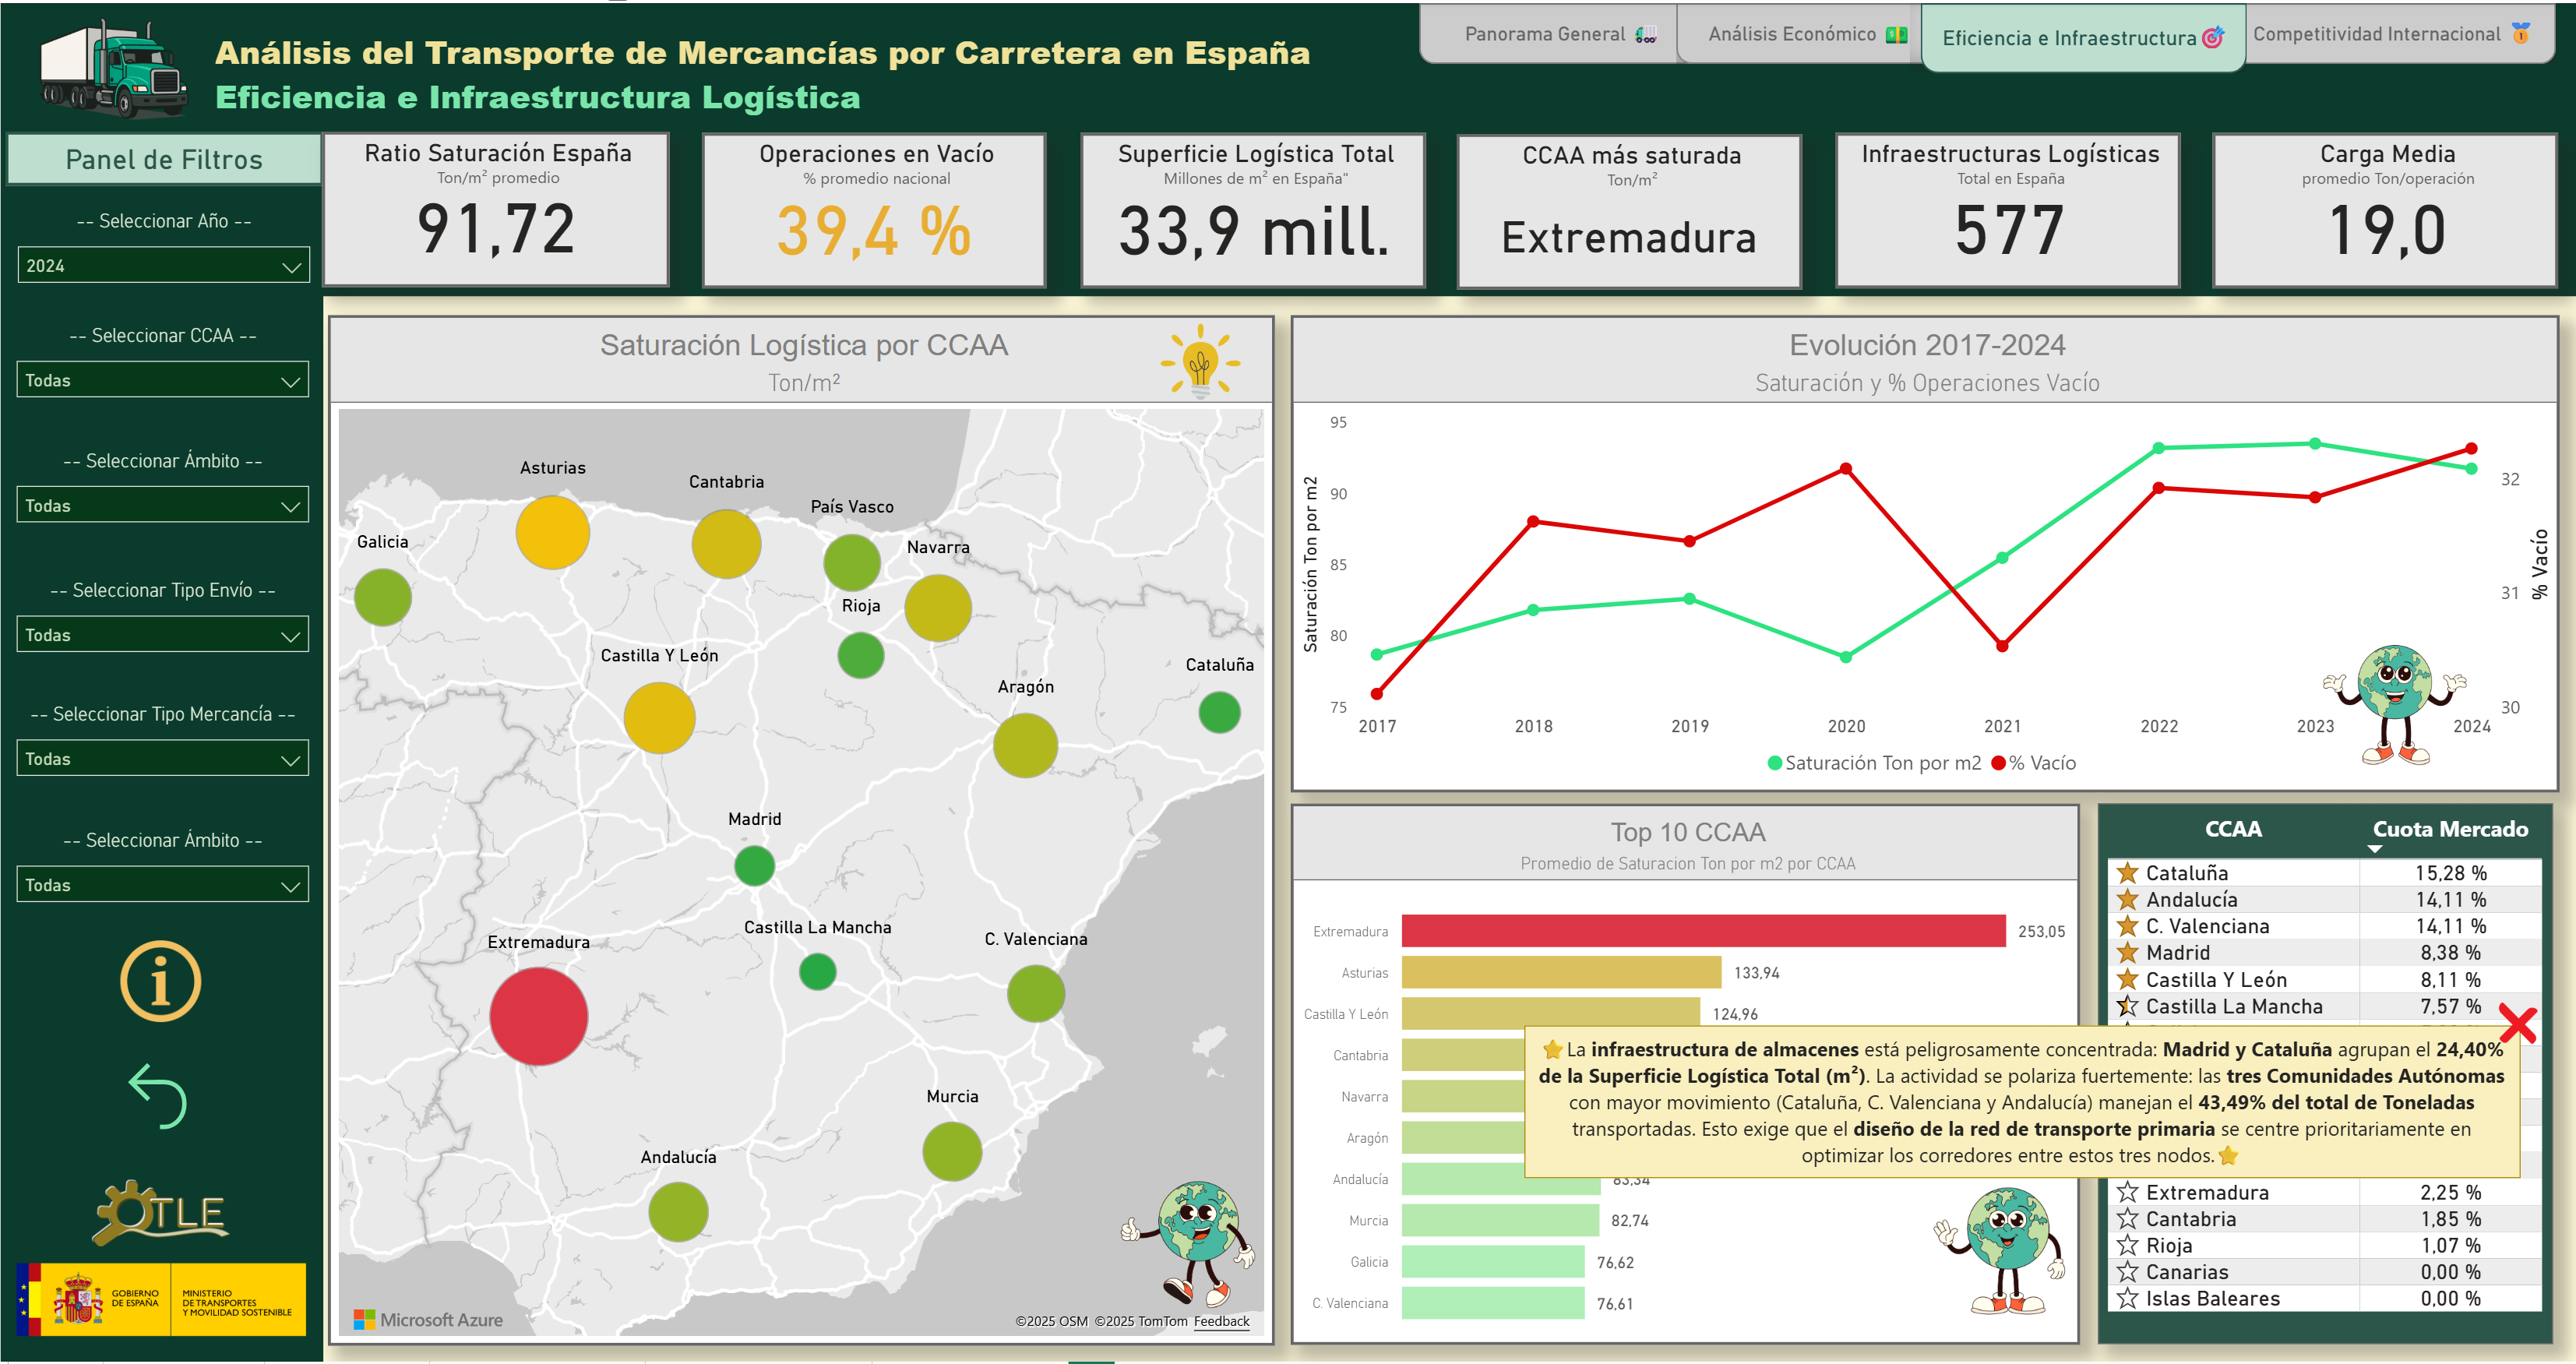

Layout of this report page (visuals, bound fields, positions):
{"tool":"powerbi","page":{"name":"Eficiencia e Infraestructura","canvas":[1747,920],"ordinal":3},"visuals":[{"type":"group","id":"g1","title":"Panel diseño","box":[0,0,1747,919.7],"z":0},{"type":"shape","box":[0,0,1747,198.6],"z":0,"group":"g1"},{"type":"shape","box":[0,81.2,218.5,838.5],"z":1000,"group":"g1"},{"type":"cardVisual","title":"Infraestructuras Logísticas","fields":{"Data":["Medidas Eficiencia e Infraestructura.Tipos Infraestructura"]},"box":[1242.3,87.8,234.2,105],"z":1000},{"type":"textbox","box":[140.3,12.6,782.4,71],"z":2000,"group":"g1"},{"type":"image","title":"Info Pag 3","box":[75.5,626.8,65.6,71],"z":2000},{"type":"slicer","title":"-- Seleccionar Año --","fields":{"Values":["Dim Año.Año"]},"box":[1.8,140.1,218,63.9],"z":3000},{"type":"slicer","title":"-- Seleccionar CCAA --","fields":{"Values":["CCAA Dim.CCAA"]},"box":[0.9,218,218,63],"z":4000},{"type":"slicer","title":"-- Seleccionar Ámbito --","fields":{"Values":["Tipo Envio Dim.Ámbito"]},"box":[0.9,302,218,63.9],"z":5000},{"type":"slicer","title":"-- Seleccionar Tipo Envío --","fields":{"Values":["Tipo Envio Dim.Tipo Envío"]},"box":[1,390.4,218,63.9],"z":6000},{"type":"textbox","box":[3.2,87,215.2,36.4],"z":7000},{"type":"cardVisual","title":"Ratio Saturación España","fields":{"Data":["Avg(KPI Saturación Logística.Saturacion Ton por m2)"]},"box":[217.6,87,235,105],"z":8000},{"type":"cardVisual","title":"Operaciones en Vacío","fields":{"Data":["Medidas Eficiencia e Infraestructura.Promedio Op Vacio (%)"]},"box":[474.8,87.8,233.4,105],"z":9000},{"type":"cardVisual","title":"Superficie Logística Total","fields":{"Data":["Sum(KPI Saturación Logística.Superficie m2)"]},"box":[731.2,87.8,234.2,105],"z":10000},{"type":"cardVisual","title":"CCAA más saturada","fields":{"Data":["Min(Dim CCAA.CCAA)"]},"box":[985.9,88.6,234.2,105],"z":11000},{"type":"slicer","title":"-- Seleccionar Tipo Mercancía --","fields":{"Values":["Dim Infraestructuras.Tipo Infraestructura"]},"box":[0.9,473.6,218,63],"z":13000},{"type":"azureMap","title":"Saturación Logística por CCAA","fields":{"Category":["Dim CCAA.CCAA","C0516 Infraestructuras Logísticas.Provincia"],"Size":["Avg(KPI Saturación Logística.Saturacion Ton por m2)"]},"box":[221.6,211.2,641.2,697.8],"z":14000},{"type":"shape","box":[1512.6,0,218.2,41.2],"z":15000},{"type":"shape","box":[960.6,0,194.7,41.1],"z":16000},{"type":"shape","box":[1134.7,0,181.2,41.1],"z":17000},{"type":"image","box":[4,846.7,208.9,62.5],"z":18000},{"type":"image","box":[6.3,791.4,204.1,55.8],"z":19000},{"type":"actionButton","box":[77.3,711.3,65.6,57.6],"z":20000},{"type":"shape","box":[1293,0,227.9,47.5],"z":21000},{"type":"cardVisual","title":"Carga Media","fields":{"Data":["Medidas Eficiencia e Infraestructura.Carga media por op"]},"box":[1497.9,87.8,234.2,105],"z":22000},{"type":"lineChart","title":"Evolución 2017-2024","fields":{"Category":["Dim Año.Año"],"Y":["Avg(KPI Saturación Logística.Saturacion Ton por m2)"],"Y2":["Avg(C0285 Operaciones Vacío.% Vacío)"]},"box":[873.6,211.3,859.3,323.6],"z":23000},{"type":"clusteredBarChart","title":"Top 10 CCAA","fields":{"Category":["Dim CCAA.CCAA"],"Y":["Avg(KPI Saturación Logística.Saturacion Ton por m2)"]},"box":[873.2,542.2,534.7,366.8],"z":24000},{"type":"slicer","title":"-- Seleccionar Ámbito --","fields":{"Values":["Dim Infraestructuras.Funcion"]},"box":[1,559.4,218,63.9],"z":25000},{"type":"tableEx","fields":{"Values":["Dim CCAA.CCAA","KPI Cuota Mercado CCAA.Cuota Mercado"]},"box":[1420.4,542,307.8,366],"z":26000},{"type":"image","box":[1567.5,415.4,107.6,119.5],"z":29000},{"type":"image","box":[9.9,0,133.1,86.3],"z":31000},{"type":"image","box":[1303.3,796.8,100.5,99.7],"z":34000},{"type":"image","box":[752.5,791.3,102.1,99.7],"z":35000},{"type":"image","box":[777.9,211.3,70.1,62.9],"z":37000}]}

Visuals, with their boxes in screenshot pixels (x1, y1, x2, y2), scaled from the page's 1747x920 canvas onto the 2576x1364 screenshot:
"Panel diseño" group: select_region(0, 0, 2575, 1363)
shape: select_region(0, 0, 2575, 294)
shape: select_region(0, 121, 322, 1363)
"Infraestructuras Logísticas" cardVisual: select_region(1832, 130, 2177, 286)
textbox: select_region(207, 19, 1361, 124)
"Info Pag 3" image: select_region(111, 929, 208, 1034)
"-- Seleccionar Año --" slicer: select_region(2, 208, 324, 302)
"-- Seleccionar CCAA --" slicer: select_region(2, 323, 322, 417)
"-- Seleccionar Ámbito --" slicer: select_region(2, 448, 322, 542)
"-- Seleccionar Tipo Envío --" slicer: select_region(2, 579, 323, 674)
textbox: select_region(5, 129, 322, 183)
"Ratio Saturación España" cardVisual: select_region(321, 129, 668, 284)
"Operaciones en Vacío" cardVisual: select_region(700, 130, 1045, 286)
"Superficie Logística Total" cardVisual: select_region(1078, 130, 1423, 286)
"CCAA más saturada" cardVisual: select_region(1454, 132, 1799, 287)
"-- Seleccionar Tipo Mercancía --" slicer: select_region(2, 702, 322, 795)
"Saturación Logística por CCAA" azureMap: select_region(326, 313, 1272, 1348)
shape: select_region(2230, 0, 2552, 61)
shape: select_region(1416, 0, 1704, 61)
shape: select_region(1673, 0, 1940, 61)
image: select_region(6, 1255, 314, 1348)
image: select_region(9, 1173, 310, 1256)
actionButton: select_region(114, 1055, 211, 1140)
shape: select_region(1907, 0, 2243, 70)
"Carga Media" cardVisual: select_region(2208, 130, 2554, 286)
"Evolución 2017-2024" lineChart: select_region(1288, 313, 2555, 793)
"Top 10 CCAA" clusteredBarChart: select_region(1288, 804, 2076, 1348)
"-- Seleccionar Ámbito --" slicer: select_region(2, 830, 323, 924)
tableEx - Dim CCAA.CCAA x KPI Cuota Mercado CCAA.Cuota Mercado: select_region(2095, 804, 2548, 1346)
image: select_region(2311, 616, 2470, 793)
image: select_region(15, 0, 211, 128)
image: select_region(1922, 1182, 2070, 1329)
image: select_region(1109, 1173, 1260, 1321)
image: select_region(1147, 313, 1250, 407)
